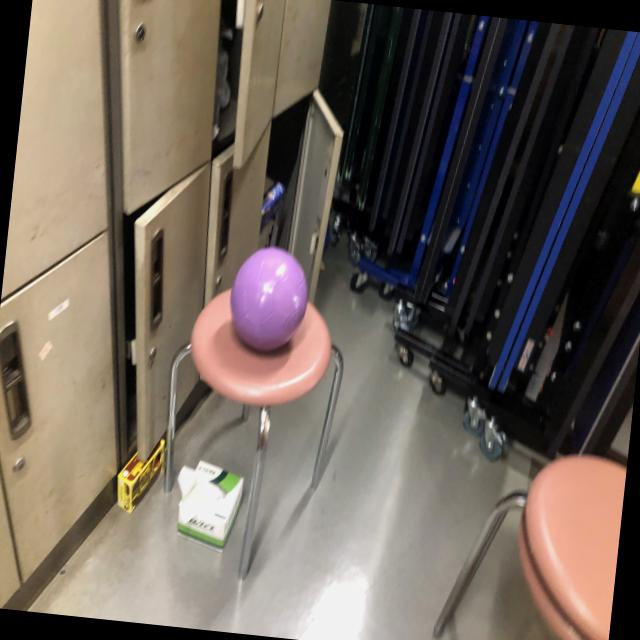purple_ball: (225, 243, 312, 354)
